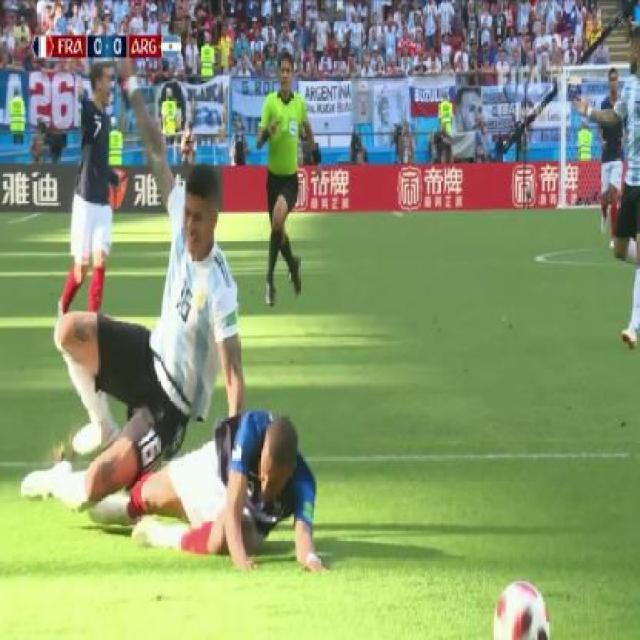ball: (488, 572, 557, 640)
player: (43, 50, 265, 579), (86, 393, 334, 579), (41, 37, 134, 393), (572, 24, 640, 363), (249, 44, 320, 304), (596, 41, 627, 252)
